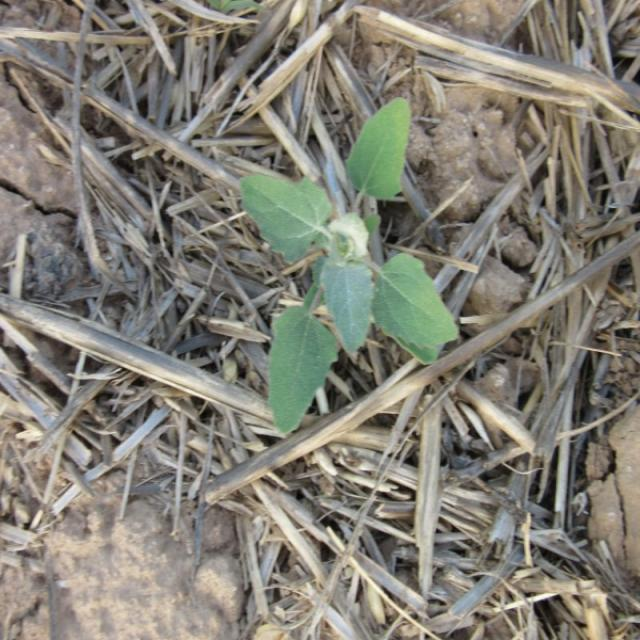ca: (243, 107, 458, 432)
